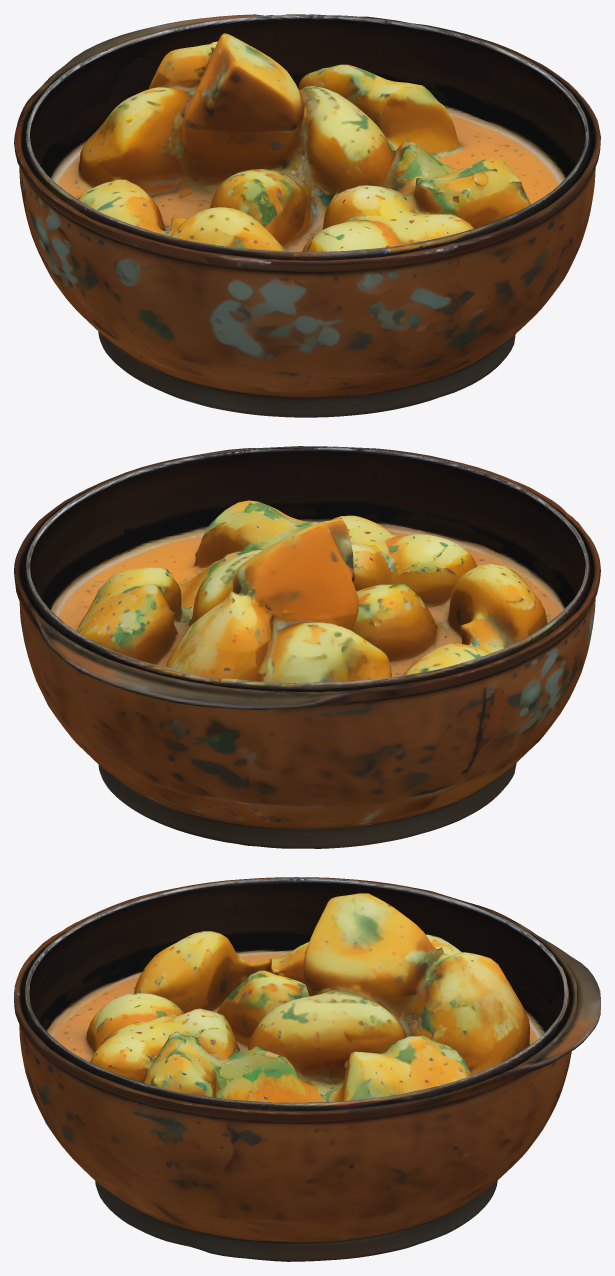
File: chiken.glb
The picture shows the model from 3 angles, top to bottom: view 1: azimuth 30°, elevation 25°; view 2: azimuth 150°, elevation 25°; view 3: azimuth 270°, elevation 25°; orthographic projection. The views are drawn at different scales.
Parts seen in each view (by area): view 1: model; view 2: model; view 3: model.
Boxes of the visible parts, x1,y1,x2,y2 form: model: (14,14,600,417); model: (14,446,600,848); model: (14,877,600,1261).
Bounding box in the file's own units: 1.81 × 0.9351 × 1.9.
Materials: 1 (1 with a texture image).
